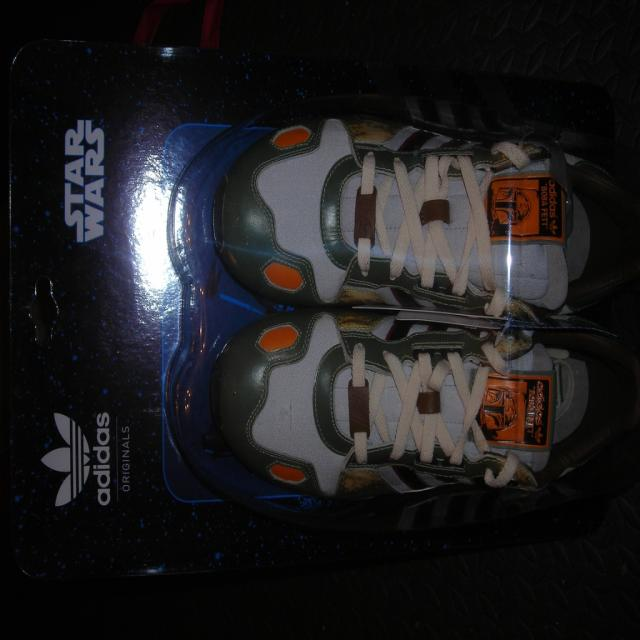adidas: (36, 403, 121, 516)
